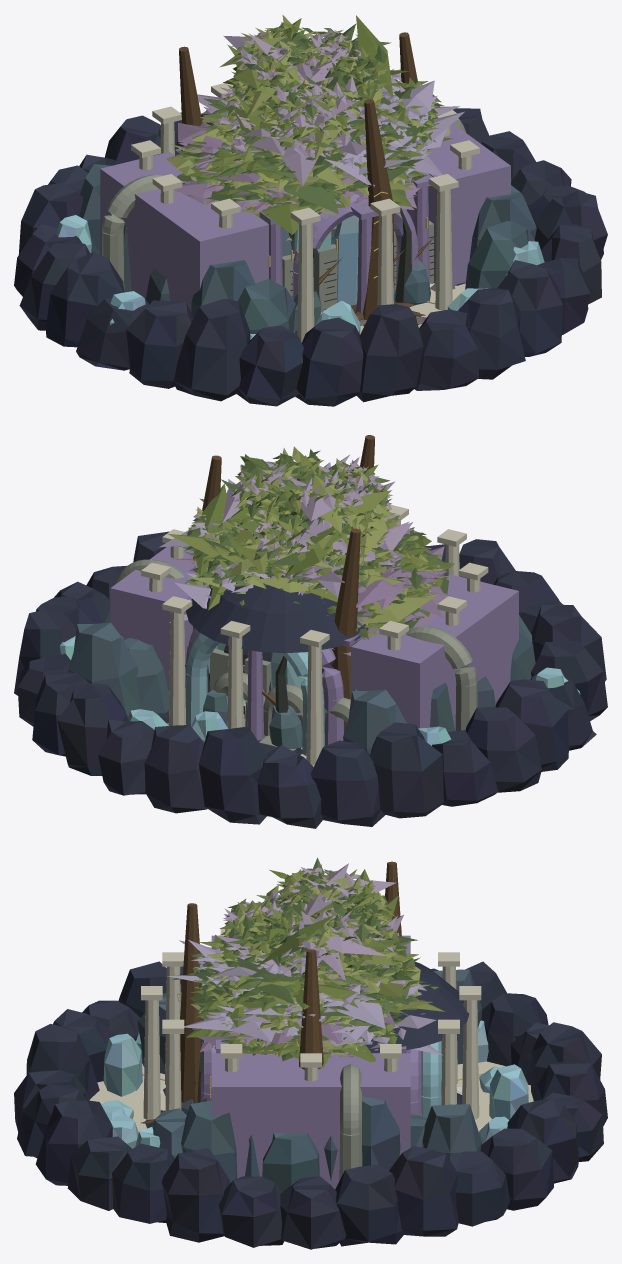
The model's file is environment-kit.glb.
3 views of the same model, one above another, from view 1: azimuth 30°, elevation 25°; view 2: azimuth 150°, elevation 25°; view 3: azimuth 270°, elevation 25° (orthographic).
Visible parts, largest first — view 1: site-ember-0_canon, site-violet-0_canon, site-abyss-0_canon, site-sunward-2_canon, woodland-2_leaves, site-deepwood-0_canon, oak-2_leaves, silver-tree-2_leaves, site-frost-0_canon, ancient-oak_leaves, silver-tree-4-distant_leaves, woodland-2-distant_leaves (+22 smaller); view 2: site-ember-0_canon, site-violet-0_canon, site-abyss-0_canon, site-sunward-2_canon, site-abyss-1_canon, oak-2_leaves, woodland-2_leaves, site-deepwood-0_canon, silver-tree-2_leaves, site-violet-1_canon, woodland-2-distant_leaves, site-frost-0_canon (+23 smaller); view 3: site-ember-0_canon, site-violet-0_canon, site-abyss-0_canon, site-sunward-2_canon, site-frost-0_canon, site-deepwood-0_canon, woodland-2_leaves, oak-2_leaves, oak-4_leaves, woodland-4_leaves, silver-tree-4-distant_leaves, silver-tree-2_leaves (+11 smaller).
Part boxes in pixels (left/top/right/bottom): site-ember-0_canon: left=14, top=108, right=607, bottom=406; site-violet-0_canon: left=100, top=110, right=510, bottom=312; site-abyss-0_canon: left=79, top=119, right=536, bottom=333; site-sunward-2_canon: left=131, top=83, right=479, bottom=342; woodland-2_leaves: left=227, top=27, right=387, bottom=157; site-deepwood-0_canon: left=179, top=32, right=425, bottom=320; oak-2_leaves: left=223, top=15, right=389, bottom=142; silver-tree-2_leaves: left=229, top=30, right=386, bottom=154; site-frost-0_canon: left=56, top=215, right=544, bottom=339; ancient-oak_leaves: left=171, top=144, right=423, bottom=223; silver-tree-4-distant_leaves: left=232, top=69, right=464, bottom=185; woodland-2-distant_leaves: left=223, top=24, right=391, bottom=160; site-ember-0_canon: left=14, top=531, right=607, bottom=828; site-violet-0_canon: left=110, top=545, right=518, bottom=740; site-abyss-0_canon: left=68, top=559, right=535, bottom=754; site-sunward-2_canon: left=141, top=504, right=488, bottom=765; site-abyss-1_canon: left=185, top=633, right=324, bottom=755; oak-2_leaves: left=230, top=446, right=396, bottom=574; woodland-2_leaves: left=231, top=458, right=400, bottom=572; site-deepwood-0_canon: left=193, top=435, right=374, bottom=733; silver-tree-2_leaves: left=232, top=457, right=392, bottom=568; site-violet-1_canon: left=185, top=628, right=343, bottom=745; woodland-2-distant_leaves: left=220, top=454, right=396, bottom=578; site-frost-0_canon: left=60, top=636, right=580, bottom=745; site-ember-0_canon: left=14, top=961, right=607, bottom=1249; site-violet-0_canon: left=200, top=935, right=469, bottom=1189; site-abyss-0_canon: left=137, top=969, right=482, bottom=1191; site-sunward-2_canon: left=141, top=927, right=481, bottom=1119; site-frost-0_canon: left=101, top=1020, right=528, bottom=1148; site-deepwood-0_canon: left=141, top=861, right=401, bottom=1123; woodland-2_leaves: left=218, top=857, right=399, bottom=983; oak-2_leaves: left=222, top=869, right=396, bottom=971; oak-4_leaves: left=190, top=935, right=419, bottom=1057; woodland-4_leaves: left=187, top=946, right=430, bottom=1043; silver-tree-4-distant_leaves: left=167, top=939, right=442, bottom=1055; silver-tree-2_leaves: left=223, top=864, right=397, bottom=982.
Bounding box in the file's own units: 29.97 × 14 × 29.84.
